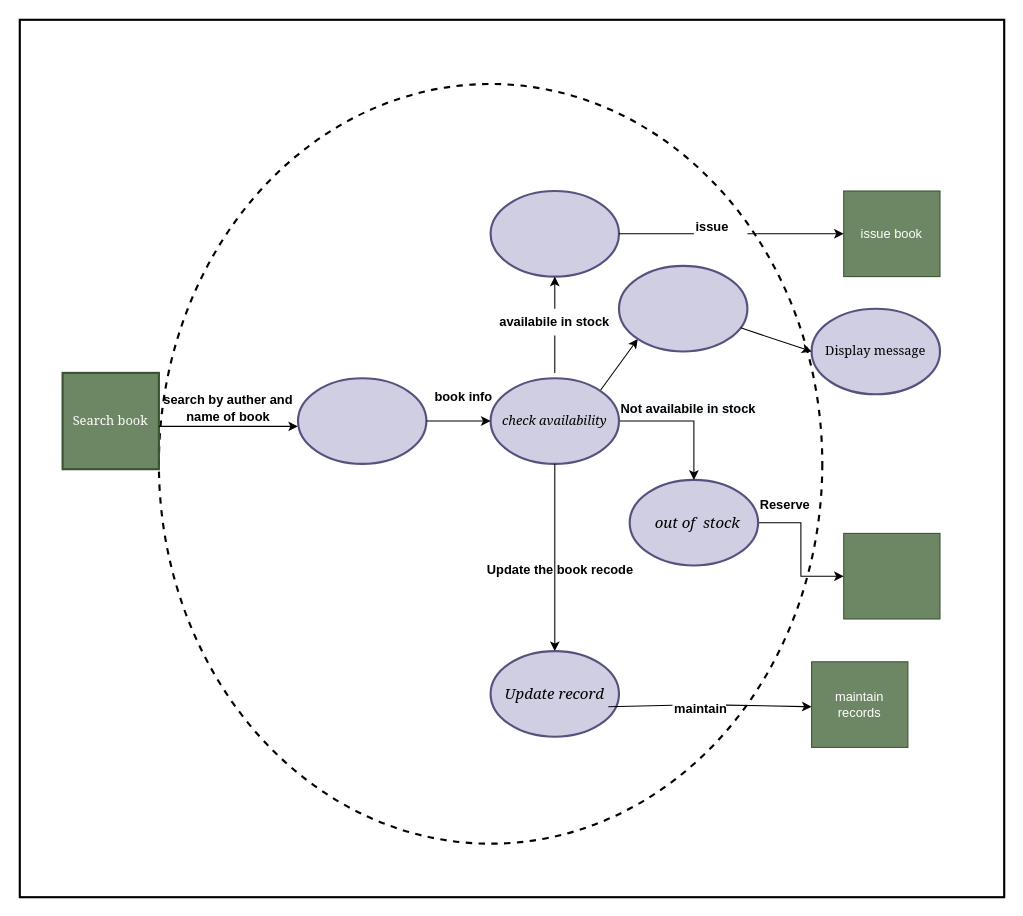
Image size: 1023x916. Some labels were removed from this diagram. The shapes that lost their labels are listed below. From the top down, each one's centre as x and y in pixels, then its label:
the point at 554,233: In stock
the point at 682,308: Display format
the point at 361,420: Read book status
the point at 891,575: reserved book
